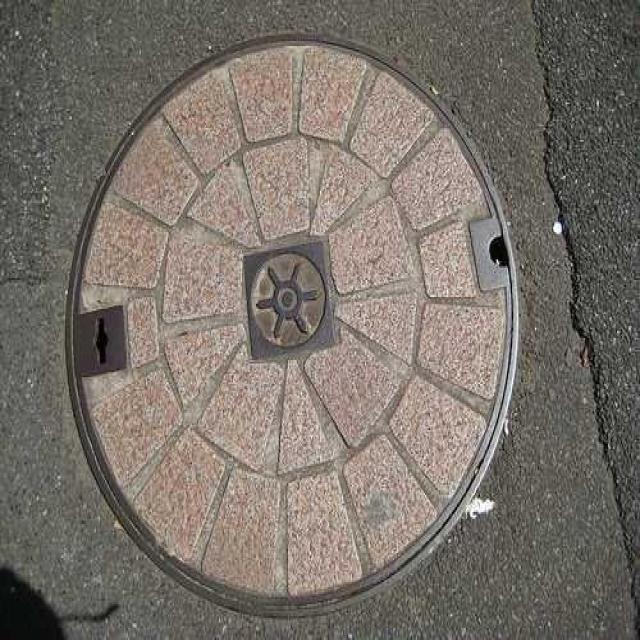manhole: (67, 37, 518, 613)
